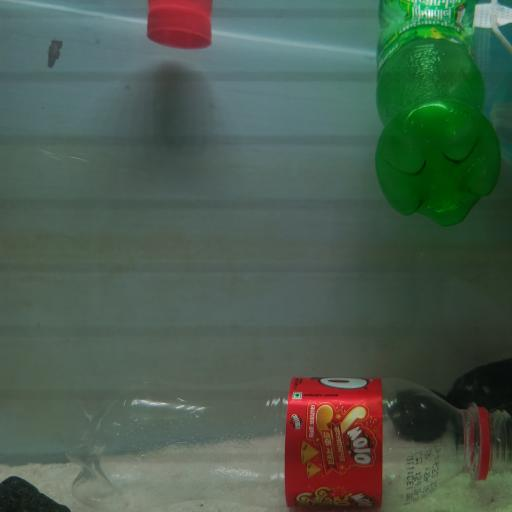bottle_cap: (146, 6, 213, 50)
mask: (474, 2, 512, 121)
plastic_bottle: (63, 374, 512, 512), (373, 26, 504, 228)
